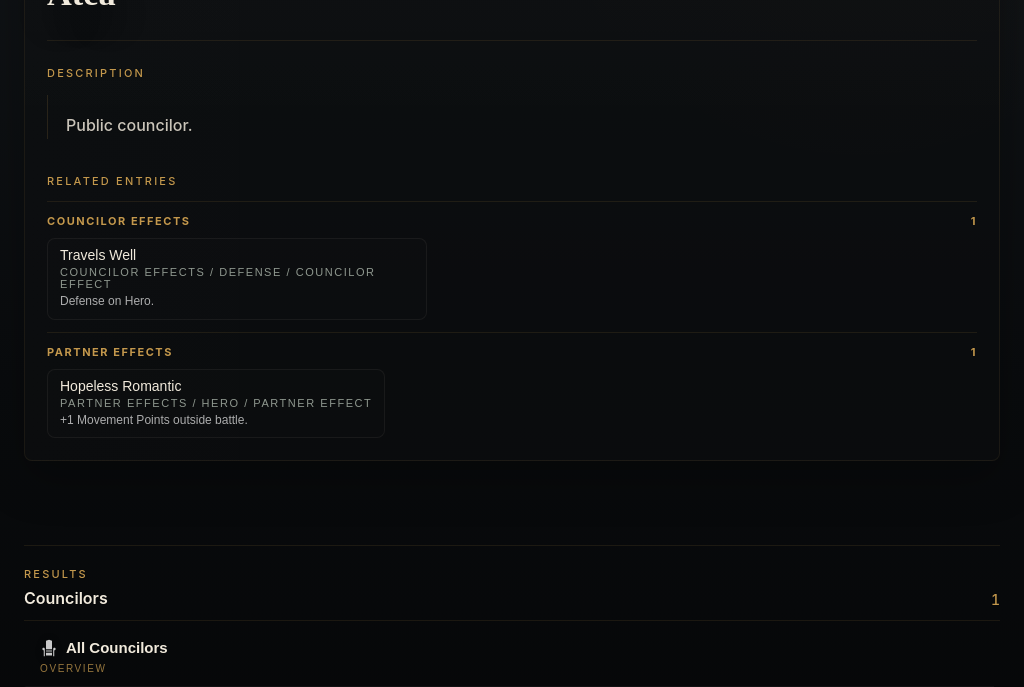
Test: CodexPage hidden and promoted data categories › keeps exporter return kinds searchable and linkable after top-level promotion
(page scrolled)
Expected: the text "Councilor Effects" is shown, [47, 214, 191, 228]
Expected: the text "Partner Effects" is shown, [47, 345, 173, 359]
Click the button "Travels Well Councilor Effects". click: {"x": 237, "y": 279}
box: [47, 238, 427, 320]
(page scrolled)
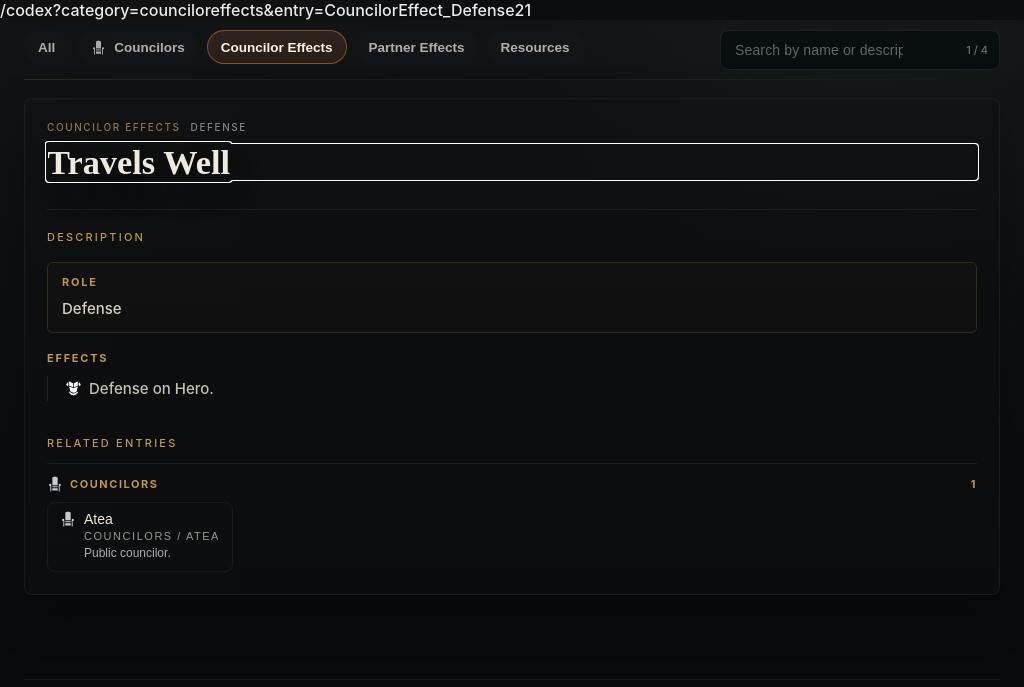
Now the heading "Travels Well" is shown, box [47, 143, 230, 181]
Now the 2nd text "Councilor Effects" is shown, box [47, 121, 181, 133]
Now the 1st text "Defense" is shown, box [191, 121, 247, 133]
Click the button "All". click: {"x": 47, "y": 47}
box: [24, 30, 69, 64]
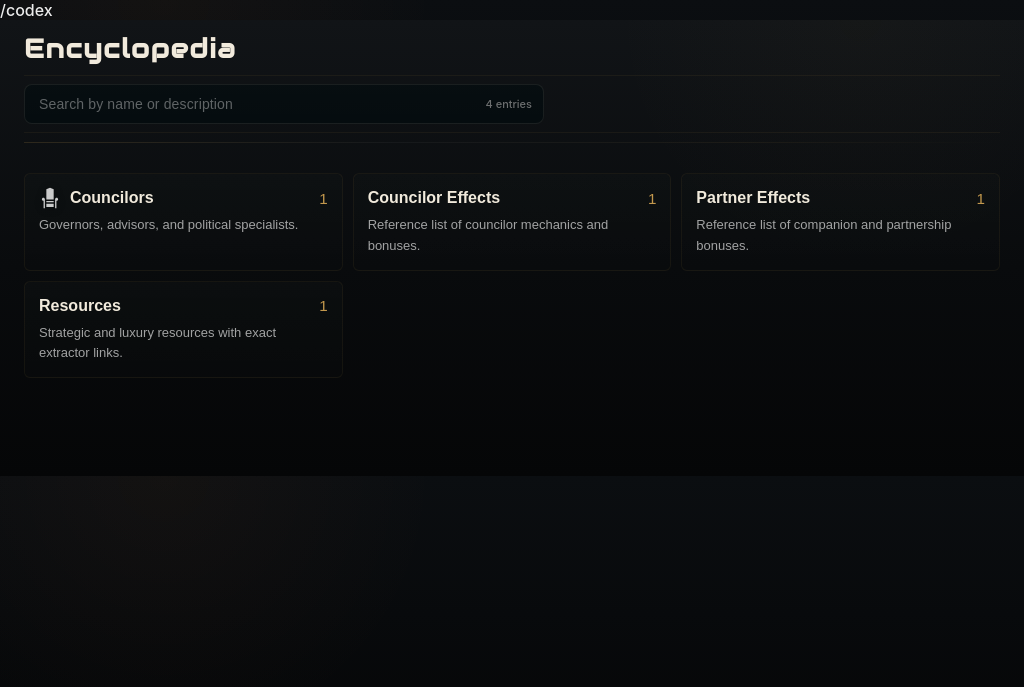
Type "Klax" into the dropdown named "search the encyclopedia". click: {"x": 284, "y": 104}
box: [24, 84, 544, 124]
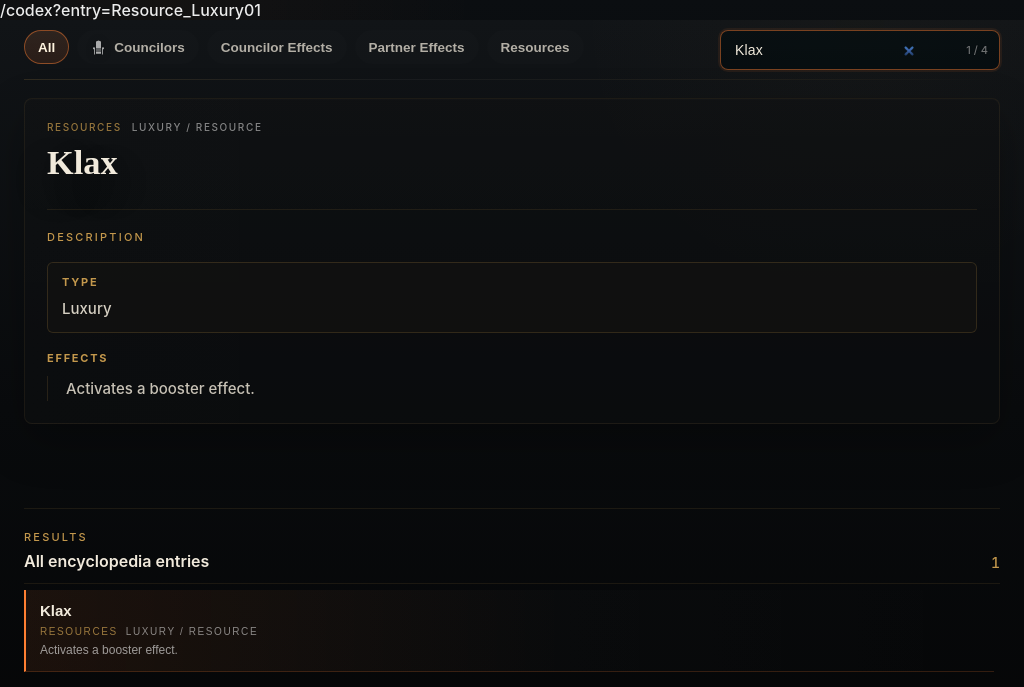
Now the button "Klax Resources Luxury / Resource Activates a booster effect." is shown, box [24, 590, 994, 672]
